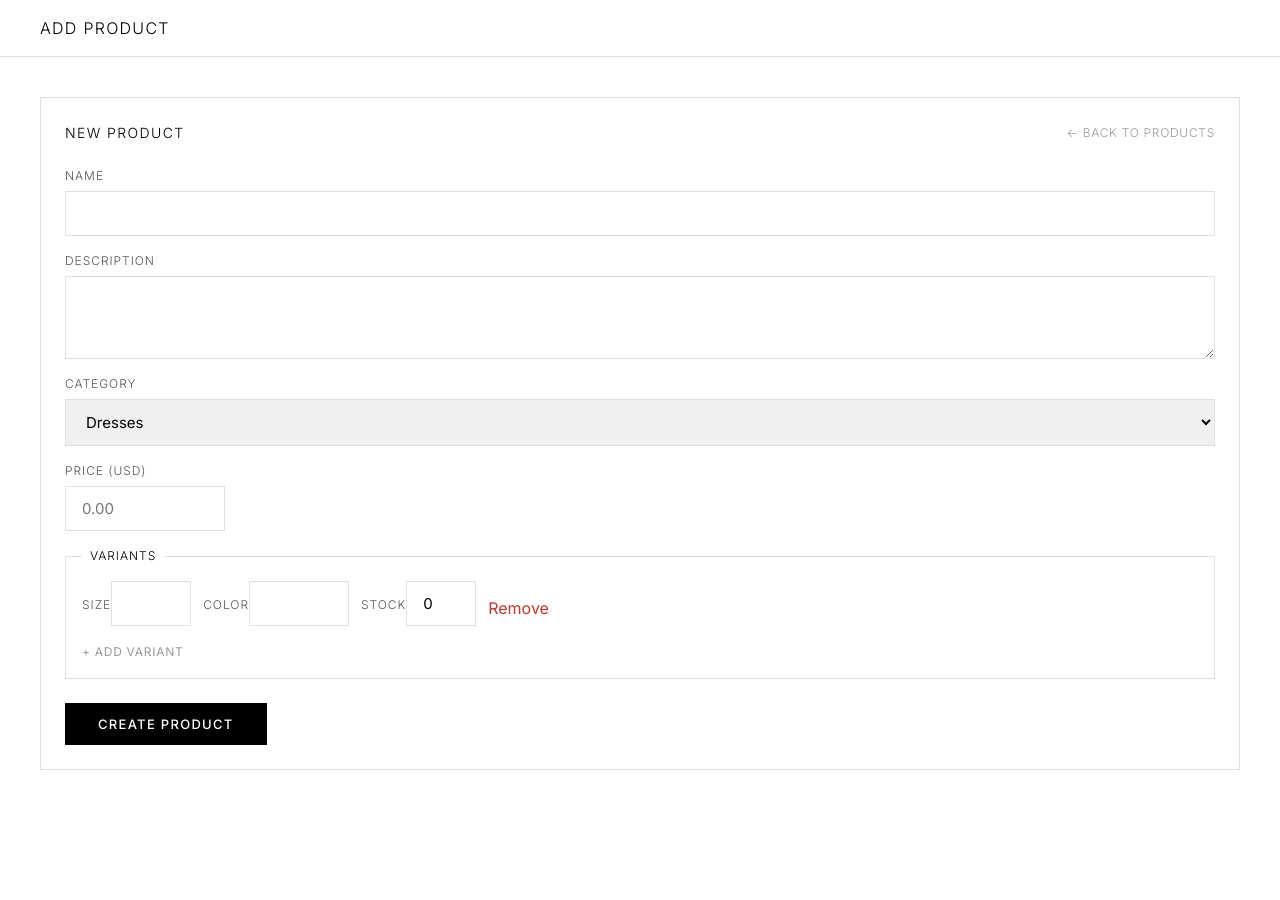
Test: AdminProductForm › create mode › shows name-required error when submitting with empty name
The image size is (1280, 900).
Click the button "Create Product" at (166, 724), box [65,703,267,745]
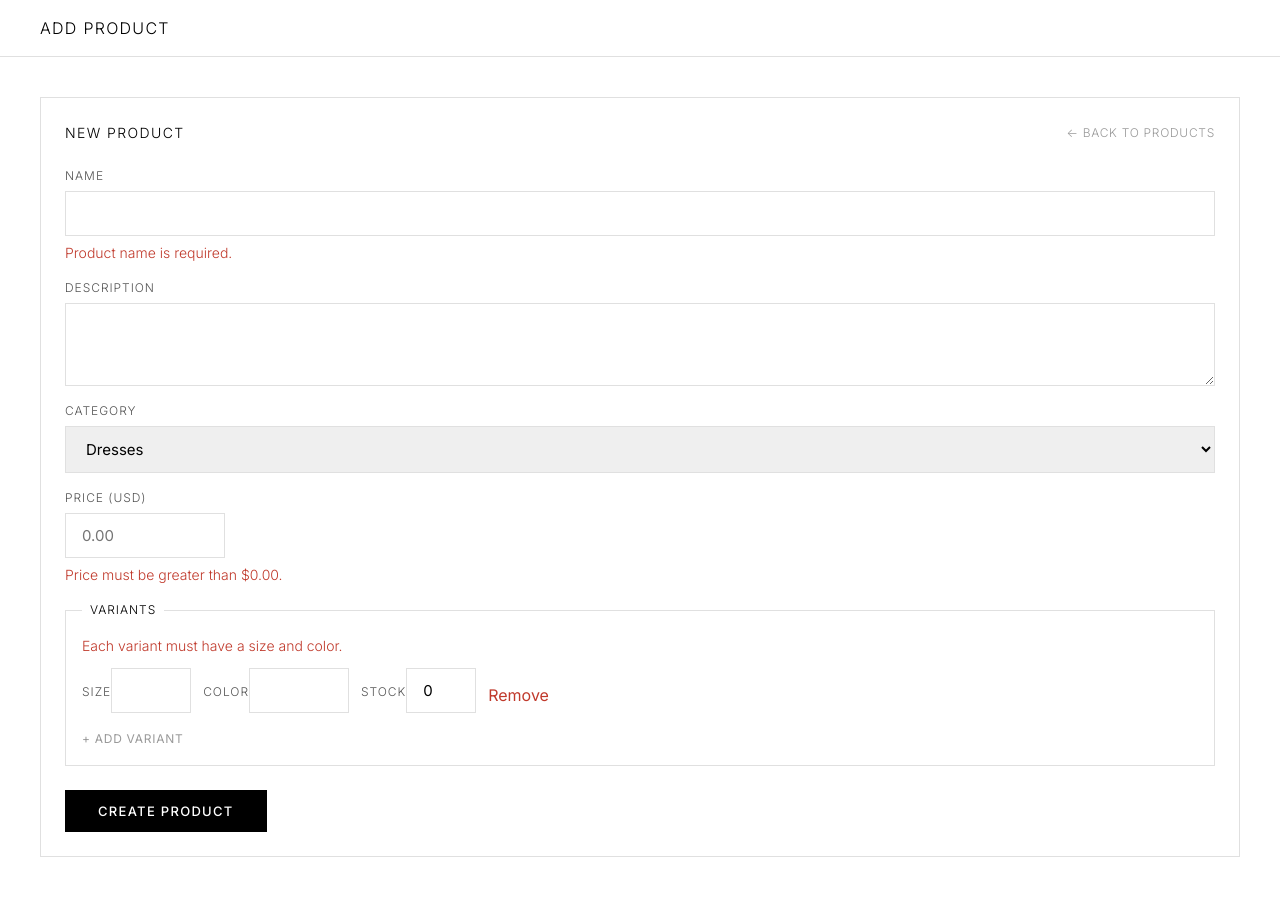
Expected: the text "Product name is required." is shown, [65,244,232,261]
